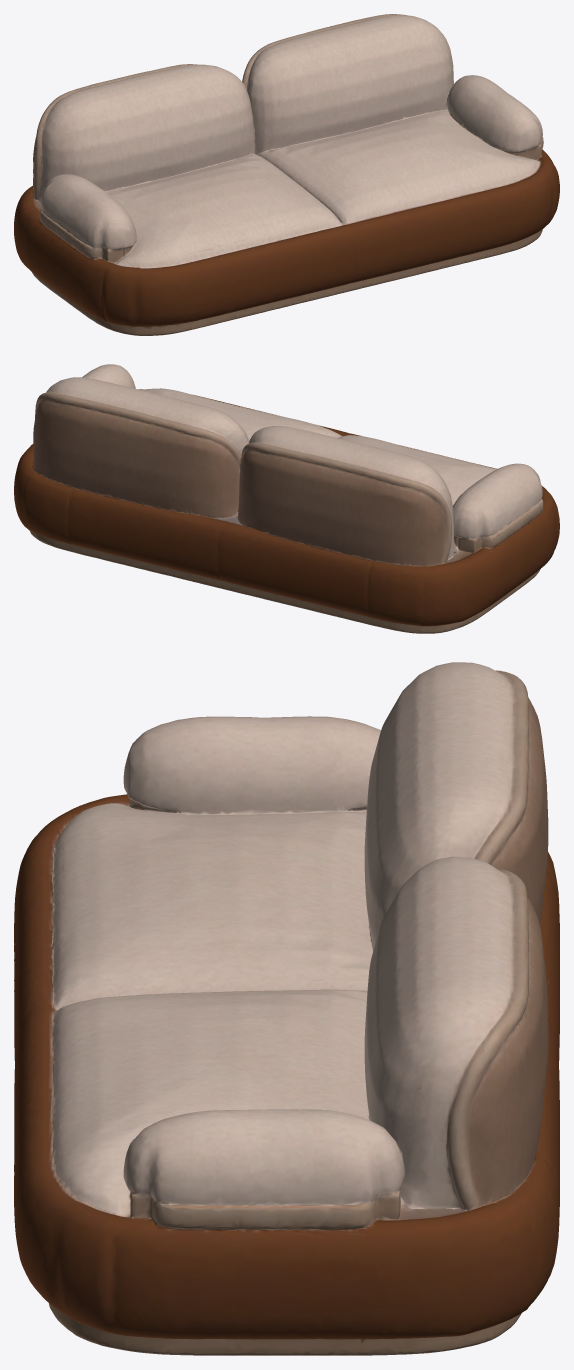
Rendered from contemporary_two_seater_loveseat_anxm65.glb.
3 renders of one model, top to bottom at view 1: azimuth 30°, elevation 25°; view 2: azimuth 150°, elevation 25°; view 3: azimuth 270°, elevation 25°, orthographic. The views are drawn at different scales.
Visible parts, largest first — view 1: world; view 2: world; view 3: world.
Boxes of the visible parts, x1=… form: world: x1=14, y1=14, x2=559, y2=335; world: x1=14, y1=364, x2=559, y2=633; world: x1=14, y1=662, x2=559, y2=1355.
Bounding box in the file's own units: 1 × 0.3252 × 0.5049.
Materials: 1 (1 with a texture image).
